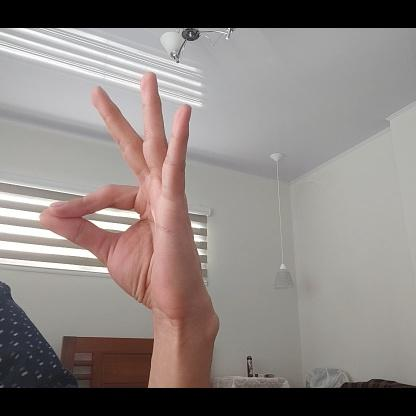F: (37, 71, 212, 320)
